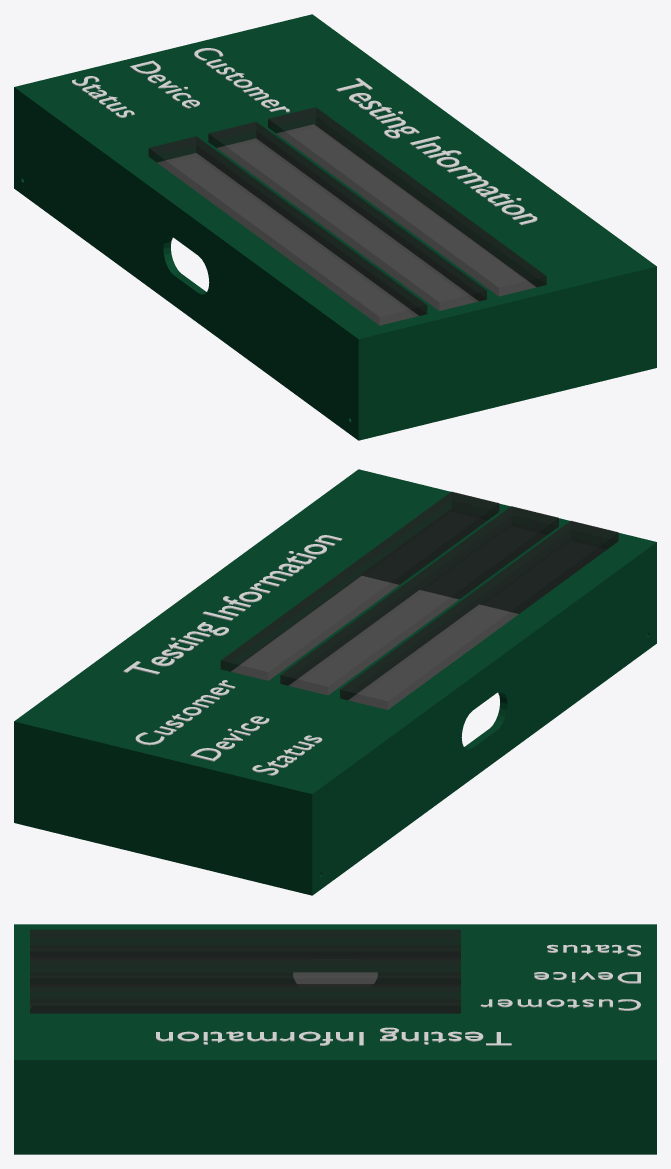
The model's file is LEDSingDisplay_designtoSKP.dae.
3 views of the same model, one above another, from view 1: azimuth 30°, elevation 25°; view 2: azimuth 150°, elevation 25°; view 3: azimuth 270°, elevation 25° (orthographic). The views are drawn at different scales.
Parts seen in each view (by area): view 1: Plane.011, Plane.014, Text.004, Text.005, Text.006, Text.007; view 2: Plane.011, Plane.014, Text.004, Text.005, Text.006, Text.007; view 3: Plane.011, Plane.014, Text.004, Text.005, Text.006, Text.007.
Boxes of the visible parts, x1,y1,x2,y2 form: Plane.011: [14, 14, 656, 440]; Plane.014: [148, 107, 546, 325]; Text.004: [336, 78, 537, 225]; Text.005: [194, 48, 289, 112]; Text.006: [130, 60, 199, 108]; Text.007: [72, 76, 134, 117]; Plane.011: [14, 469, 656, 895]; Plane.014: [220, 491, 618, 709]; Text.004: [123, 535, 342, 674]; Text.005: [135, 680, 235, 745]; Text.006: [190, 716, 269, 761]; Text.007: [252, 735, 322, 775]; Plane.011: [14, 924, 656, 1154]; Plane.014: [30, 929, 460, 1013]; Text.004: [156, 1027, 511, 1045]; Text.005: [480, 999, 640, 1010]; Text.006: [534, 972, 640, 983]; Text.007: [547, 944, 640, 956].
Size of the model in its own units: 0.2 by 0.4 by 0.0706.
